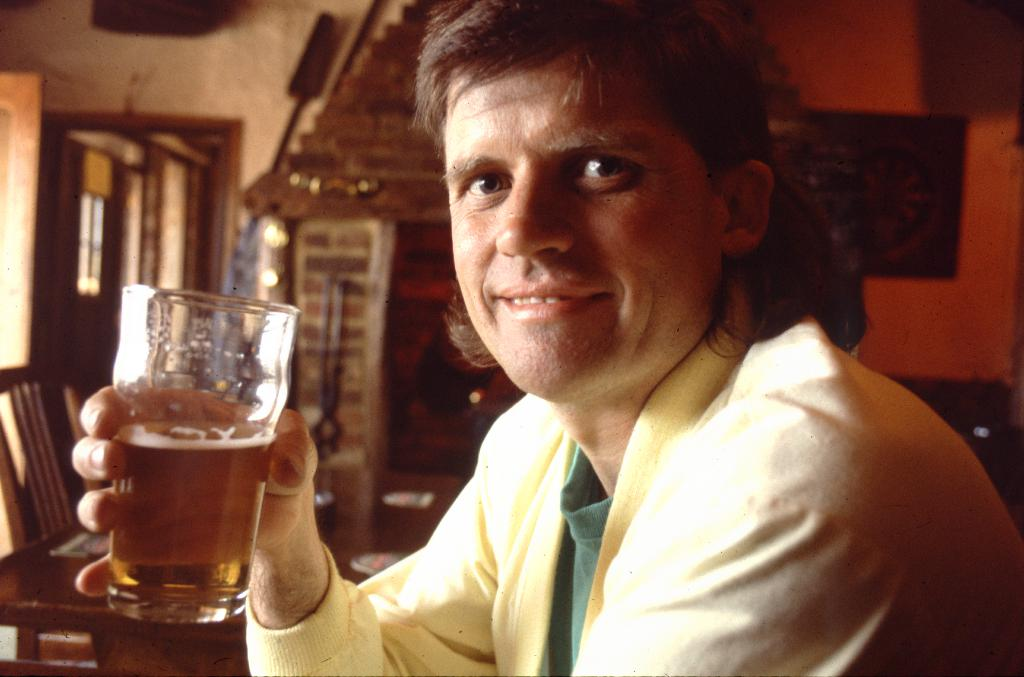Beer: (105, 280, 295, 628)
